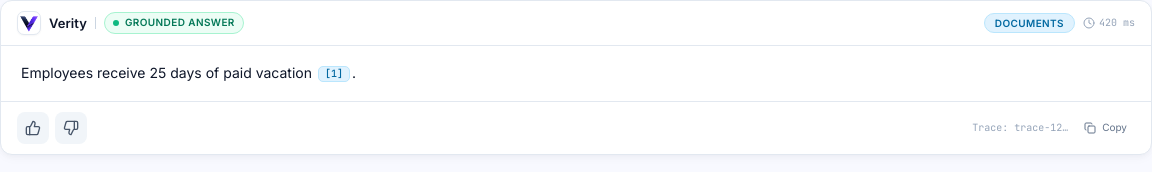
Test: MessageItem citations › rolls back the vote and explains a feedback failure
Click the button named "Unhelpful answer".
click(71, 128)  # box [55,112,87,144]
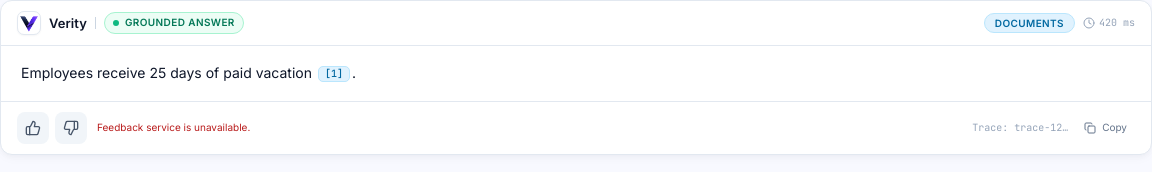
Expected: the message reads "Feedback service is unavailable.", [97,121,250,133]
